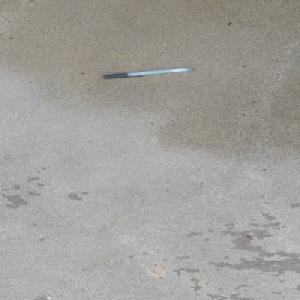Pen: (101, 66, 194, 79)
